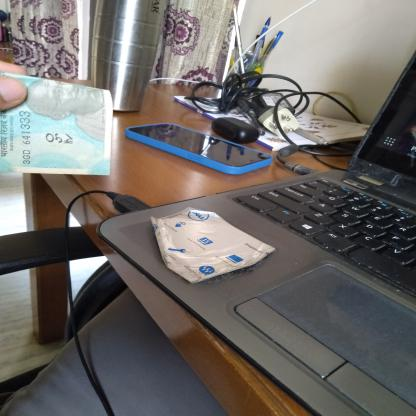New50Front: (0, 72, 114, 174)
